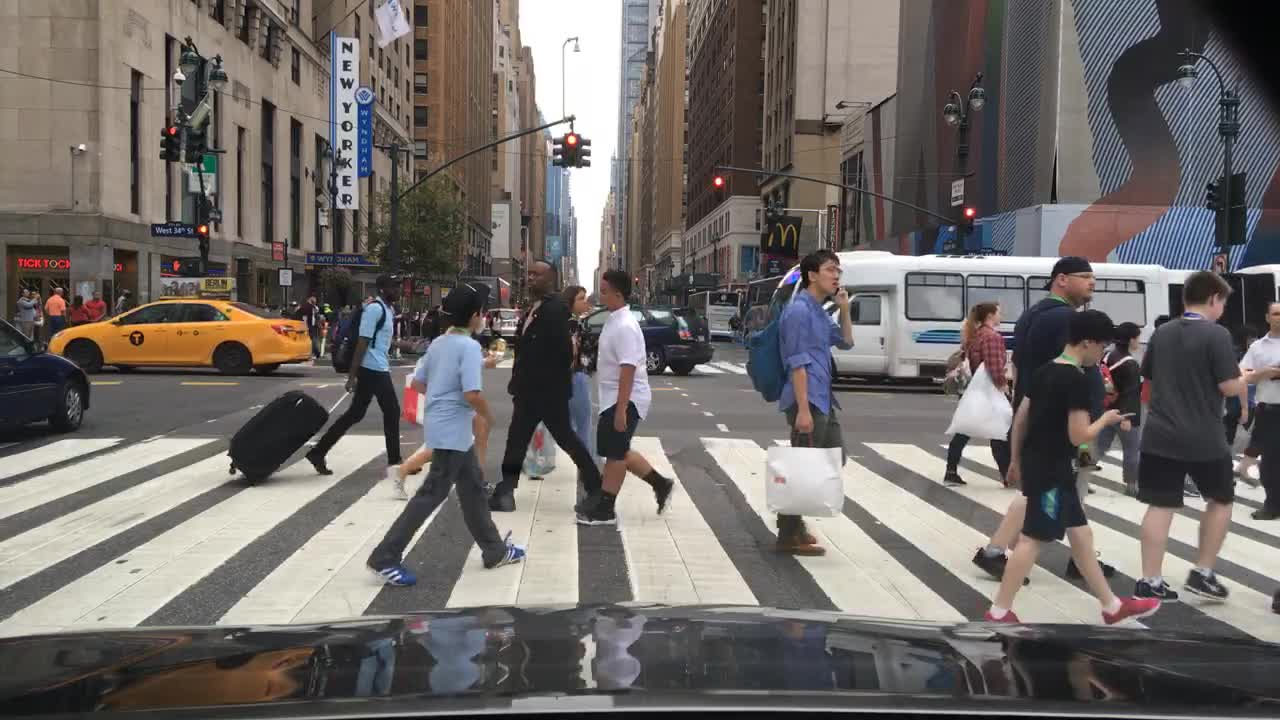bus: (761, 249, 1224, 398), (684, 289, 740, 343)
car: (46, 296, 314, 375), (0, 316, 95, 437), (573, 303, 714, 374), (479, 304, 523, 344), (739, 303, 768, 347)
person: (982, 310, 1161, 624), (970, 254, 1128, 584), (363, 291, 528, 586), (1130, 271, 1245, 621), (744, 242, 855, 557), (487, 254, 603, 518), (387, 275, 511, 500), (301, 276, 430, 479), (574, 267, 675, 525), (947, 299, 1021, 488), (1093, 315, 1148, 493), (1236, 299, 1278, 508), (563, 277, 602, 486), (1223, 376, 1266, 490), (301, 293, 322, 362), (41, 284, 65, 338), (16, 286, 36, 339), (29, 290, 45, 352), (320, 302, 336, 353), (422, 303, 440, 345), (67, 293, 89, 327), (89, 287, 109, 322), (337, 302, 351, 343), (114, 286, 133, 316), (487, 309, 502, 347), (725, 312, 742, 344), (1152, 314, 1179, 333), (287, 297, 301, 322)
traffic light: (184, 124, 203, 162), (562, 132, 578, 167), (168, 121, 182, 159), (1205, 178, 1220, 208), (578, 134, 590, 167), (551, 132, 563, 165), (158, 123, 168, 158), (963, 203, 975, 232), (712, 169, 723, 200), (198, 223, 208, 252), (170, 259, 189, 274), (633, 273, 639, 286)
traffic sign: (1214, 209, 1244, 245), (1218, 171, 1245, 206), (189, 173, 214, 191), (1210, 252, 1228, 273), (949, 177, 962, 203), (278, 267, 293, 286), (318, 206, 329, 225), (273, 242, 284, 258)
